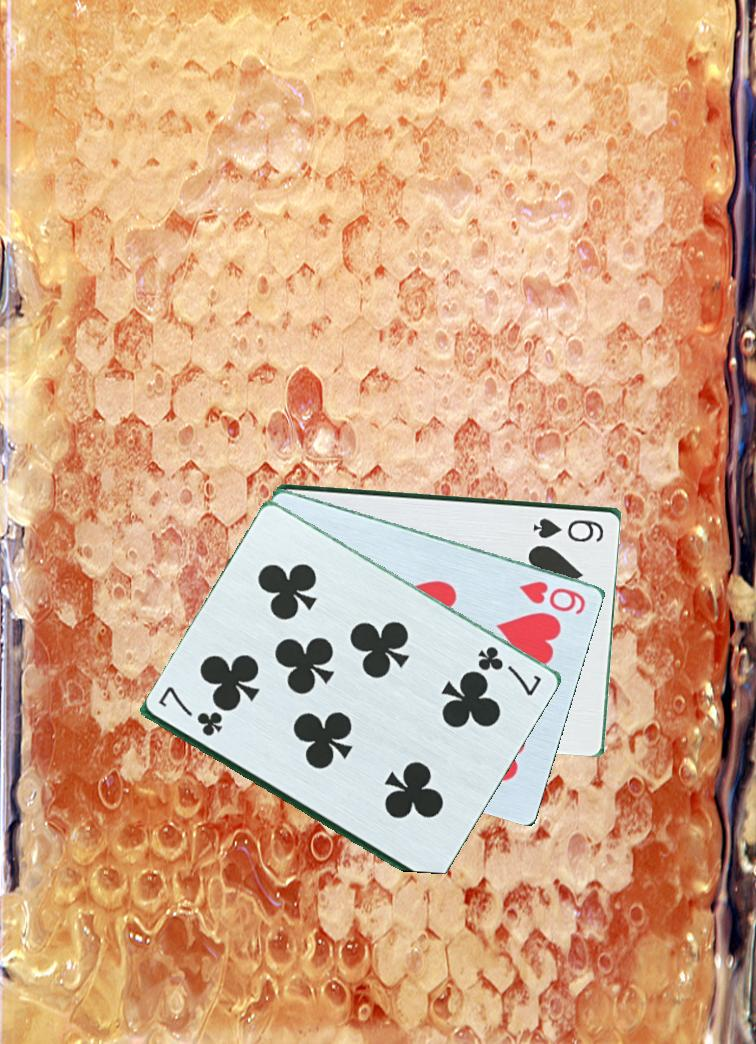6h: (516, 577, 589, 617)
6s: (528, 514, 608, 543)
7c: (466, 642, 545, 699), (155, 685, 227, 739)
